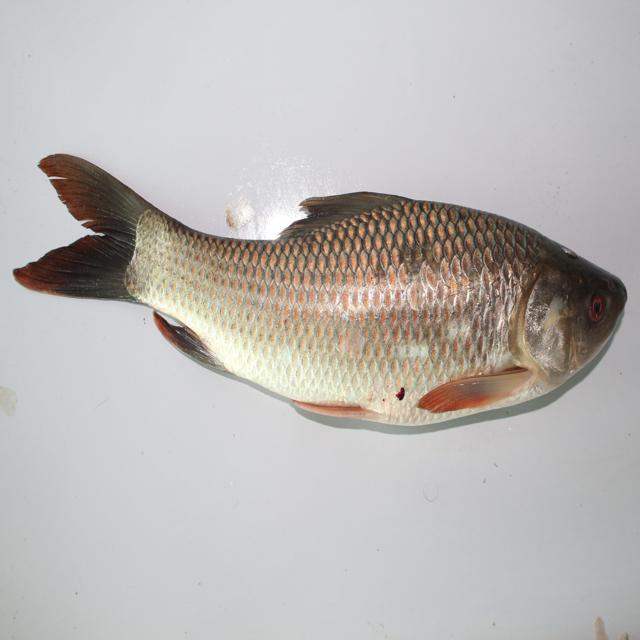Rohu: (19, 145, 632, 444)
